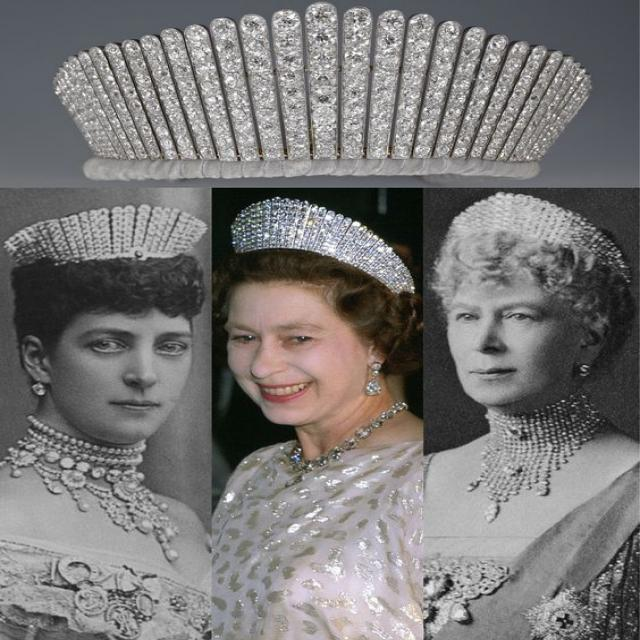Earring: (356, 348, 390, 394), (27, 377, 49, 403), (574, 361, 594, 383)
